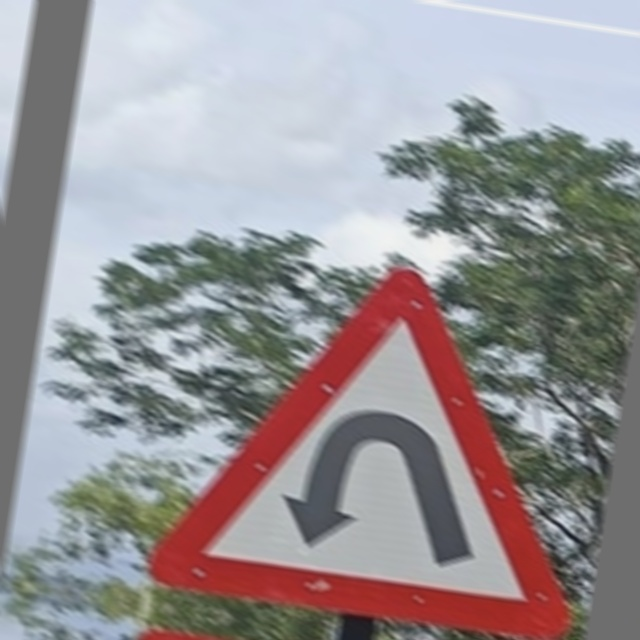Left_Hair_Pin_Bend: (146, 225, 627, 639)
